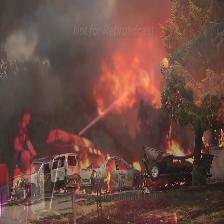fire: (100, 1, 222, 196)
nofire: (8, 104, 42, 192)
smoke: (0, 0, 119, 120)
